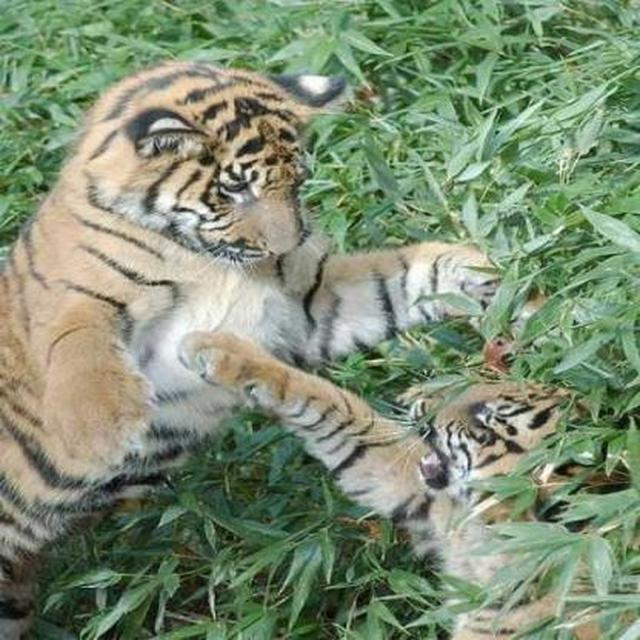tiger: (0, 57, 522, 639), (179, 324, 636, 639)
